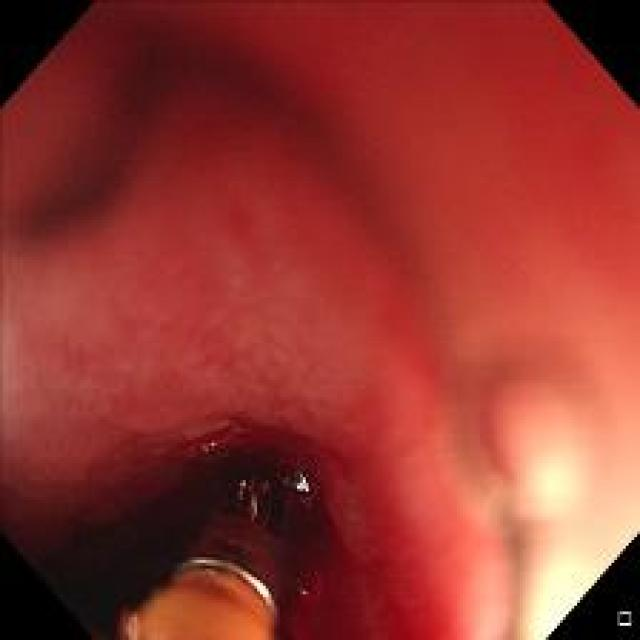blur: (16, 16, 579, 290), (420, 110, 631, 626)
contrast: (59, 458, 334, 632)
instrument: (101, 450, 306, 631)
saturation: (501, 456, 590, 625)
specularity: (242, 570, 272, 601), (295, 474, 310, 490)
